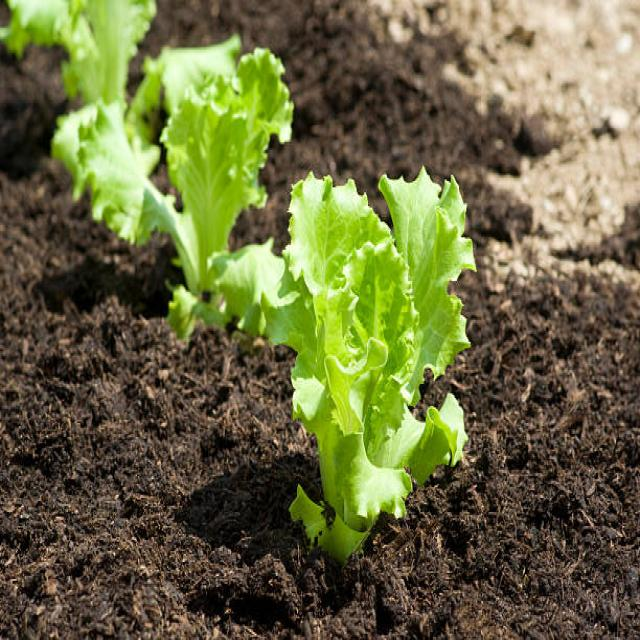inmadura: (262, 167, 474, 560), (76, 48, 292, 334)
